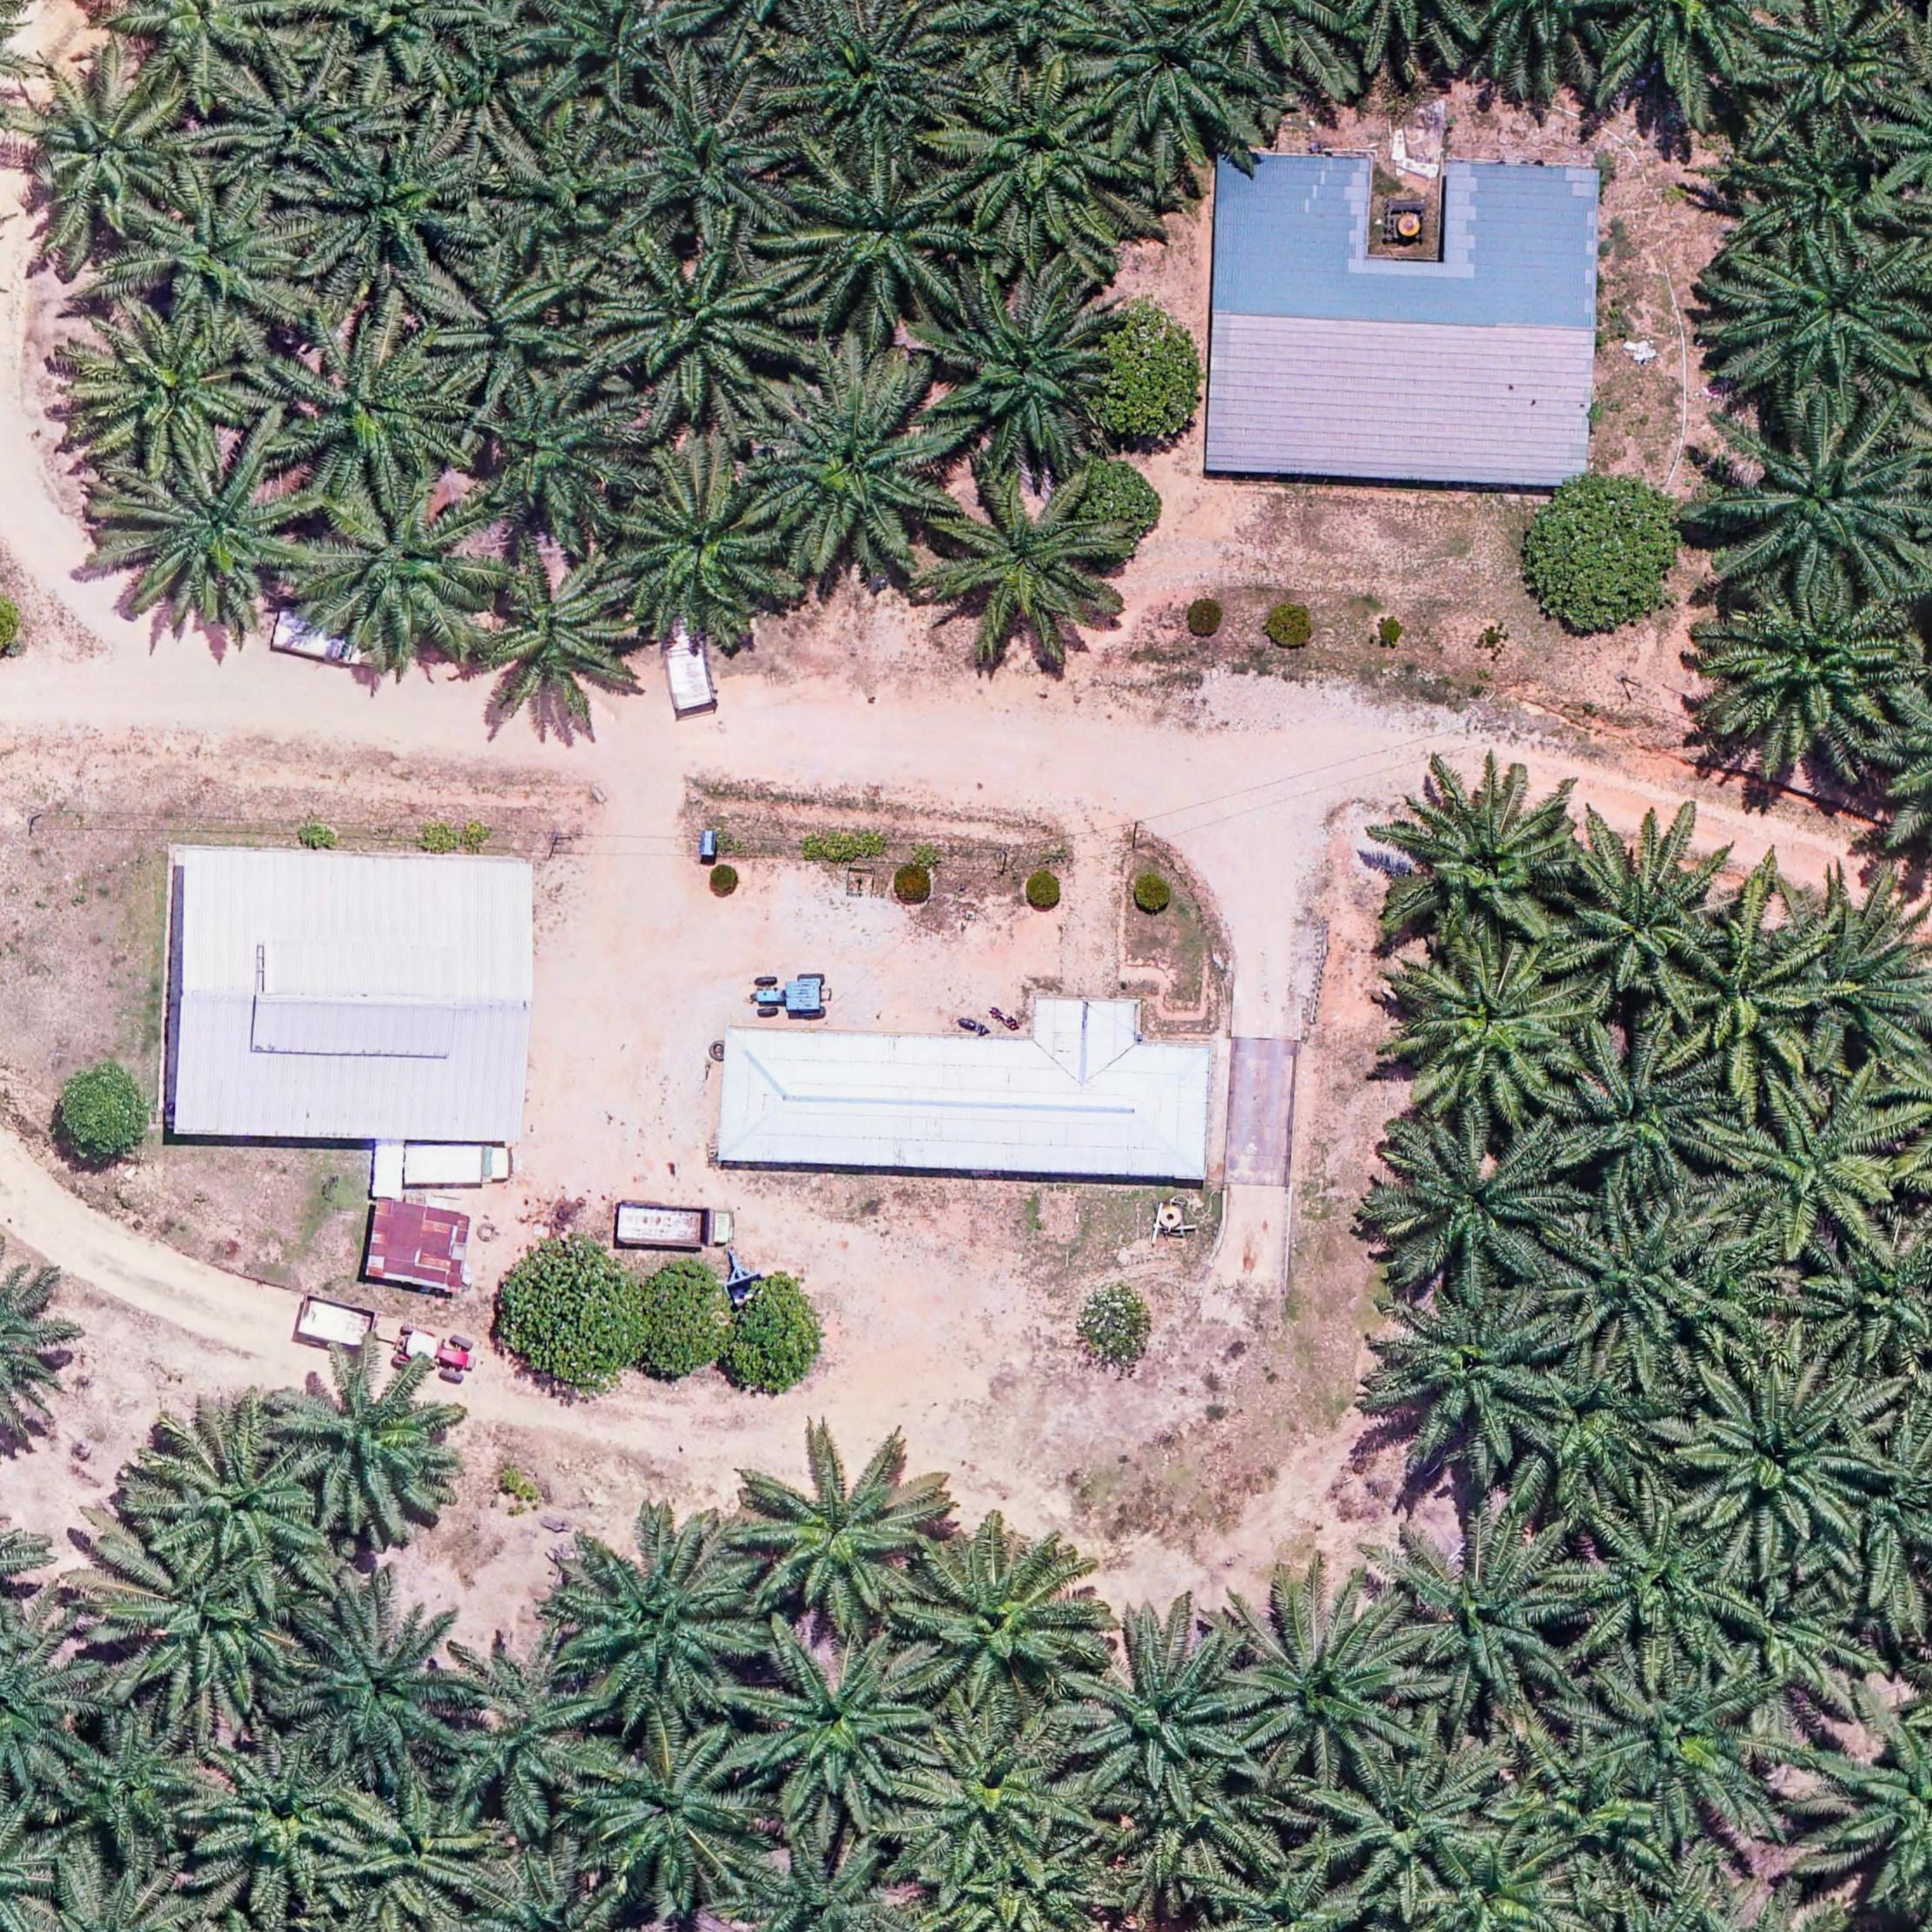palmtree: (745, 359, 952, 571), (108, 433, 320, 630), (1389, 1507, 1591, 1713), (1707, 409, 1932, 593), (552, 1511, 759, 1707), (1675, 1362, 1882, 1559), (96, 1529, 313, 1711), (743, 1426, 943, 1621), (1223, 1585, 1419, 1782), (1376, 1279, 1573, 1476), (1062, 1626, 1261, 1810), (924, 472, 1129, 649), (600, 237, 803, 414), (1378, 952, 1592, 1118), (14, 53, 205, 239), (271, 320, 464, 501), (308, 474, 501, 655), (1385, 771, 1582, 948), (1713, 237, 1932, 395), (73, 304, 269, 476), (1721, 1079, 1909, 1258), (745, 1635, 938, 1808), (904, 1530, 1092, 1706), (1375, 1131, 1578, 1292), (938, 272, 1120, 451), (1484, 1734, 1686, 1895), (614, 456, 793, 637), (278, 1345, 455, 1525), (467, 545, 642, 725), (294, 127, 488, 288), (943, 60, 1139, 219), (1546, 835, 1732, 1003), (575, 1727, 759, 1895), (1550, 1024, 1727, 1198), (1583, 1504, 1757, 1681), (287, 1603, 467, 1771), (1315, 1741, 1502, 1902), (1714, 607, 1904, 766), (1776, 885, 1932, 1074), (621, 65, 798, 228), (134, 172, 310, 331), (465, 372, 637, 533), (1539, 1214, 1723, 1359), (1674, 924, 1842, 1079), (156, 1428, 322, 1582), (904, 1718, 1069, 1868), (410, 262, 579, 409), (46, 1713, 211, 1859), (1093, 9, 1261, 152), (1594, 1661, 1755, 1810), (801, 177, 970, 308), (1527, 1345, 1667, 1499), (1734, 126, 1920, 235), (1810, 1214, 1932, 1376), (478, 138, 649, 253), (442, 1674, 586, 1810), (782, 27, 945, 145), (214, 1753, 359, 1886), (338, 1787, 490, 1911), (0, 1608, 94, 1803), (1759, 0, 1913, 119), (226, 55, 354, 191), (1596, 0, 1790, 87), (1132, 1783, 1274, 1898), (425, 35, 568, 138), (1437, 1842, 1576, 1932)
